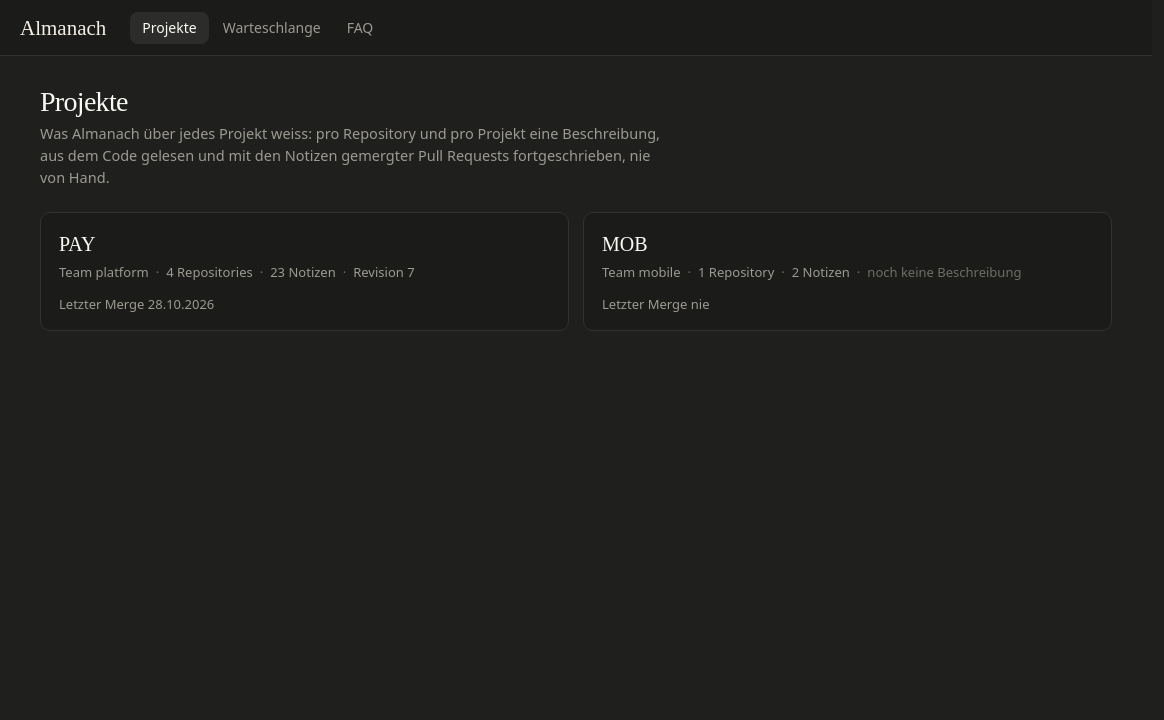
Test: App › routes by the address and navigates on a click
Expected: the text "Team platform·4 Repositories·23 Notizen·Revision 7" is shown, [59,263,415,281]
Click the link "PAY".
click(304, 272)  # box [40,212,569,331]
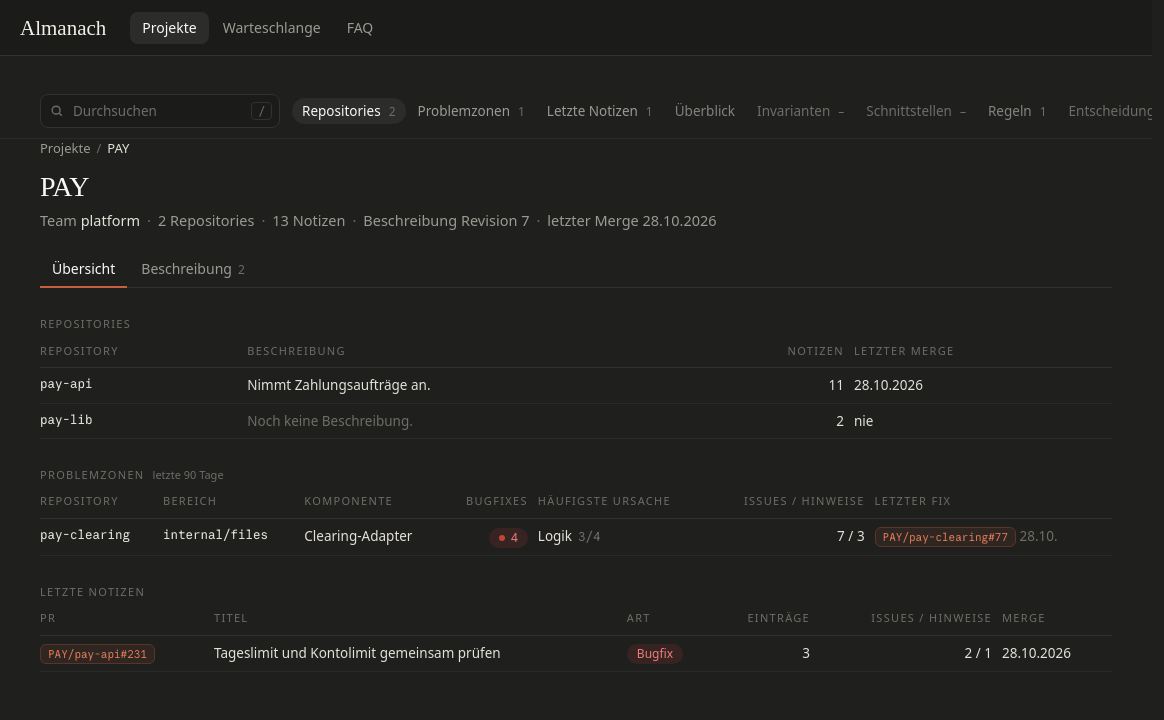
Now the text "Clearing-Adapter" is shown, box [304,519,450,556]
Click the link "FAQ".
click(360, 27)  # box [347,18,373,36]
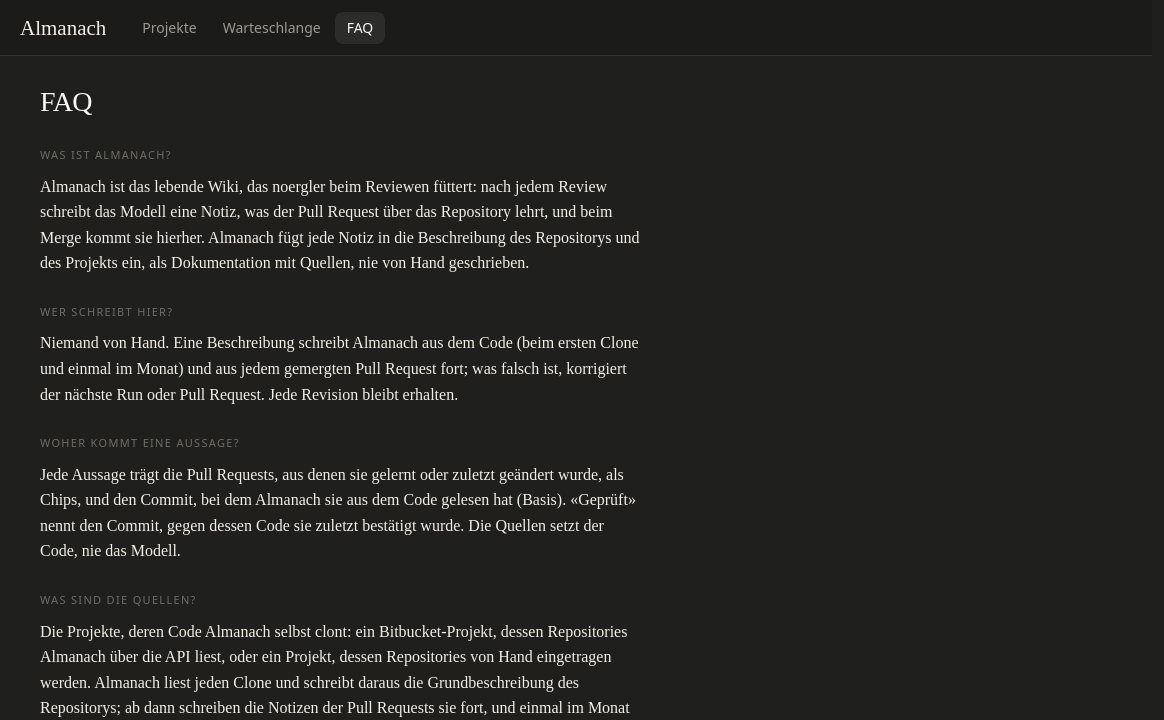
Now the text "Was ist Almanach?" is shown, box [40,147,172,162]
